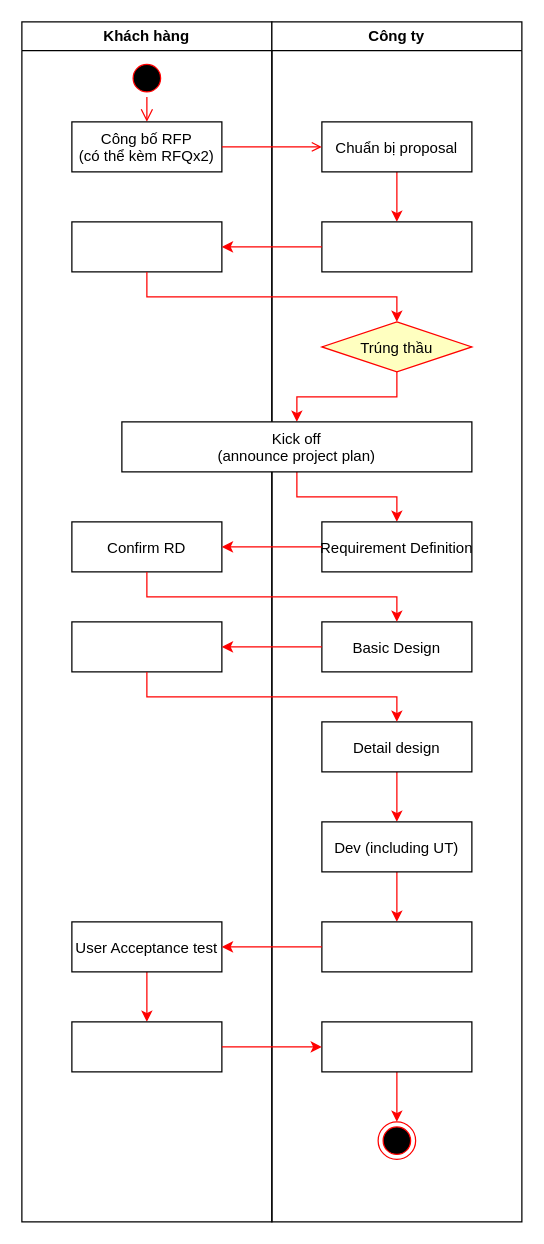
Some shapes in this 544 by 1244 pixel diagram are drawn without their labels. Here are the shapes that lost their labels. From the top down, the box of each, then its label:
(71, 221, 222, 272): Đấu thầu
(321, 221, 472, 272): Nộp hồ sơ thầu
(71, 621, 222, 672): Confirm BD
(321, 921, 472, 972): Integration test
(71, 1021, 222, 1072): Product release decision
(321, 1021, 472, 1072): Release
